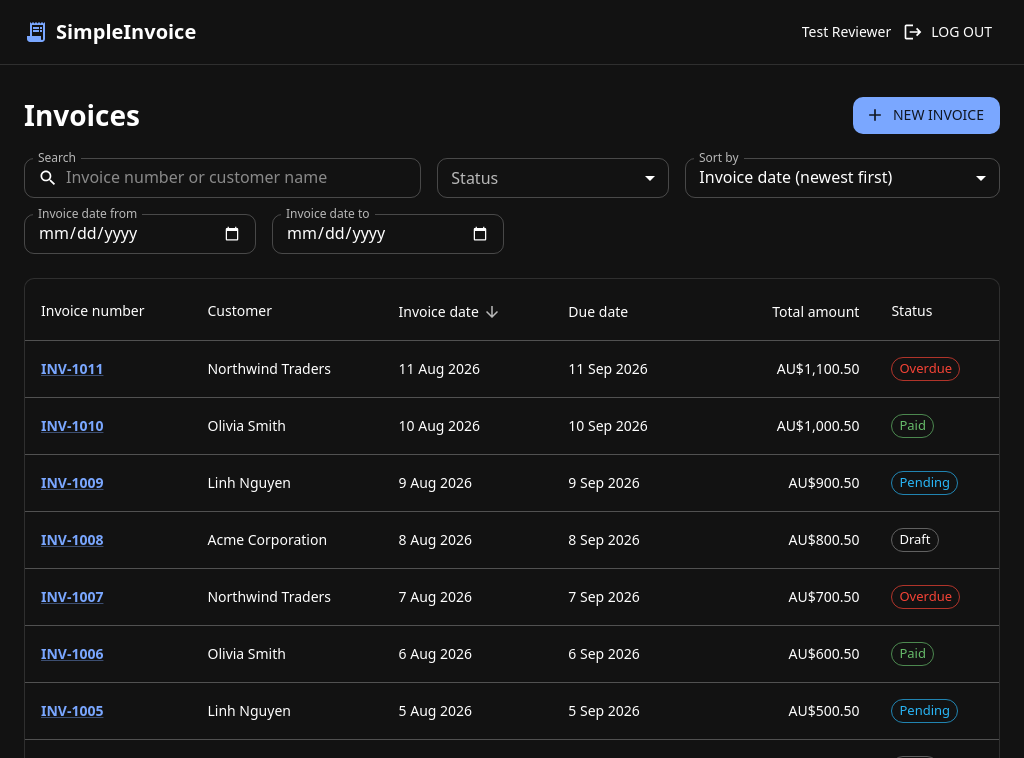
Test case: InvoiceListPage › filters by status
Click the dropdown named "Status" at (553, 178), box [437, 158, 669, 198]
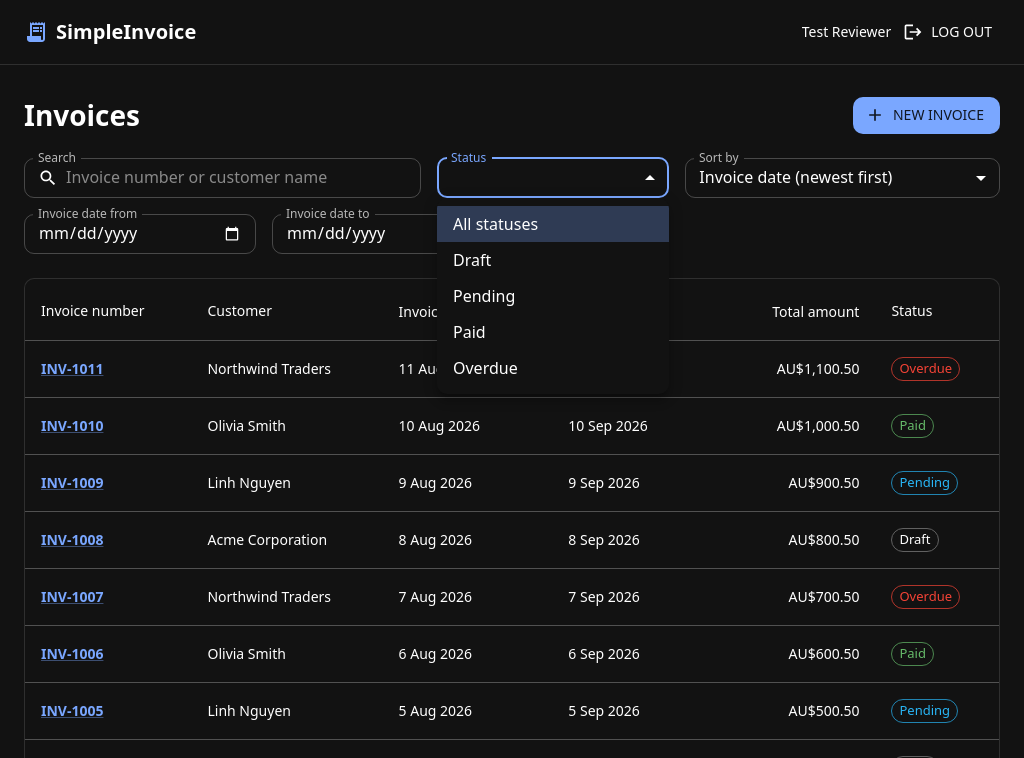
Click the option "Paid" at (469, 332), box [453, 321, 486, 343]
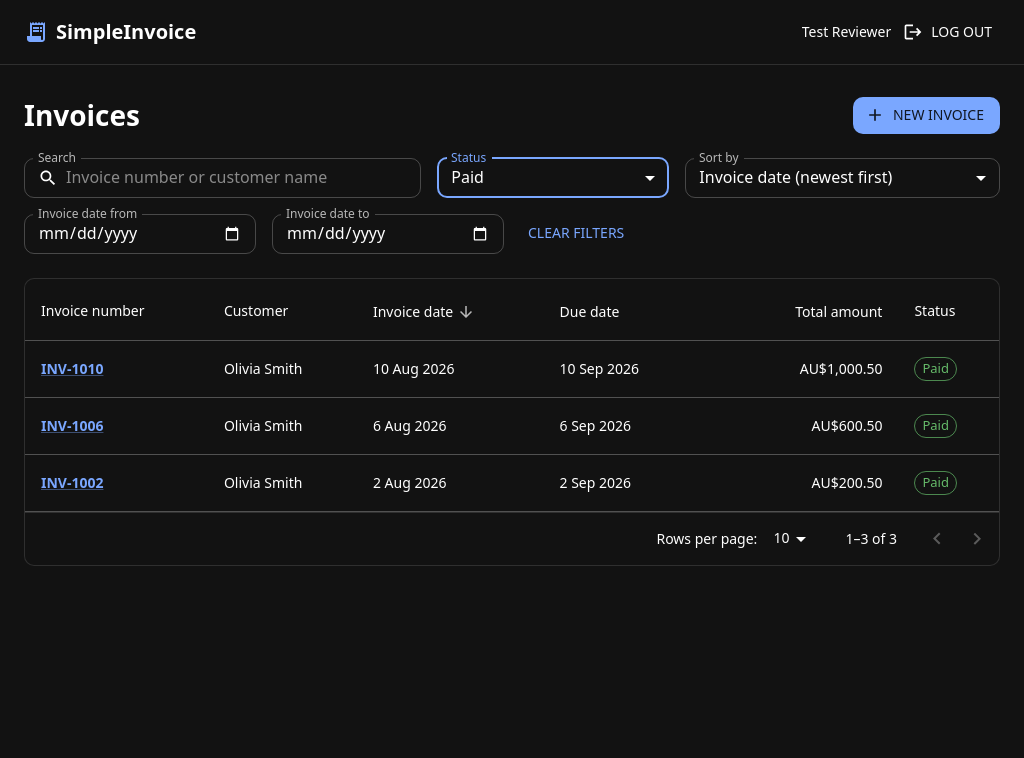
Expected: the text "Paid" in the row of "INV-1010" is shown, [922, 359, 949, 377]
Expected: the dropdown named "Status" reads "Paid", [451, 166, 484, 188]
